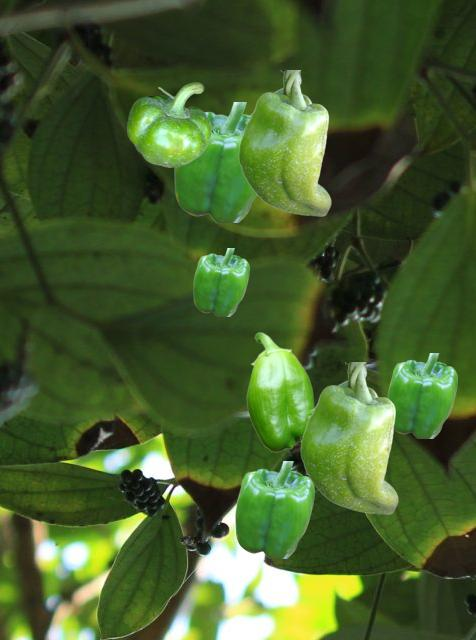bell_pepper: (300, 362, 397, 513), (238, 70, 330, 215), (174, 102, 256, 221), (246, 332, 313, 451), (235, 461, 313, 557), (127, 82, 210, 166), (387, 353, 456, 437), (193, 248, 248, 315)
